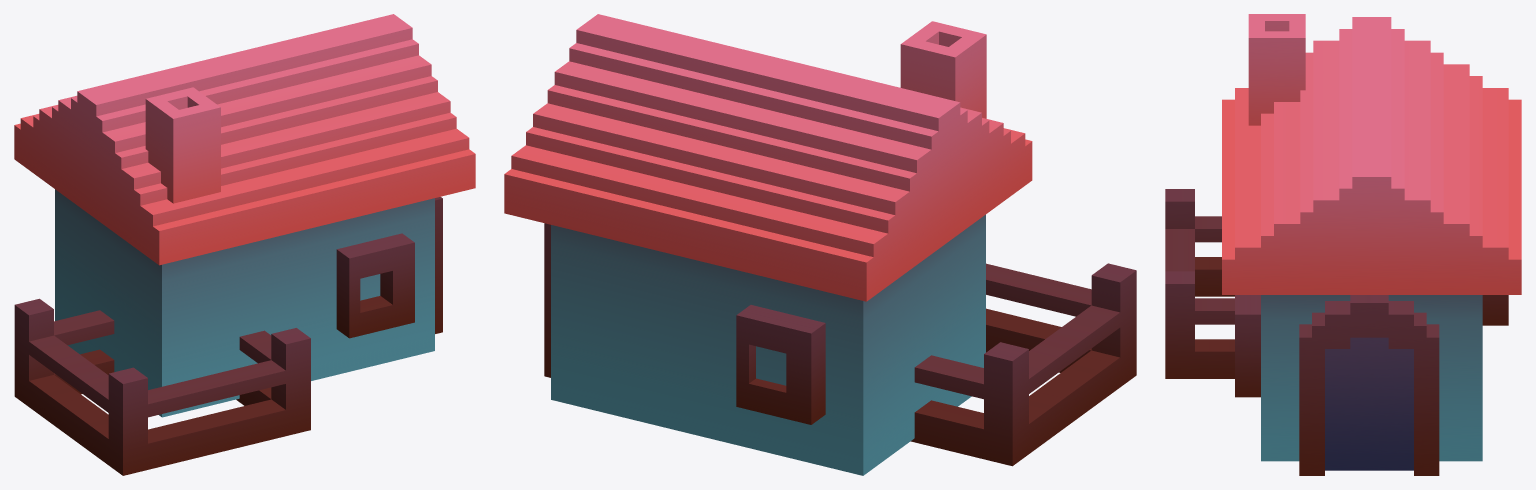
File: House.fbx
3 renders of one model, left to right at view 1: azimuth 30°, elevation 25°; view 2: azimuth 150°, elevation 25°; view 3: azimuth 270°, elevation 25°, orthographic. The views are drawn at different scales.
Visible parts, largest first — view 1: House; view 2: House; view 3: House.
Part boxes in pixels (x1,y1,x2,y2): House: (14,14,475,475); House: (504,14,1136,475); House: (1165,14,1521,475).
Bounding box in the file's own units: 151 × 114 × 117.
